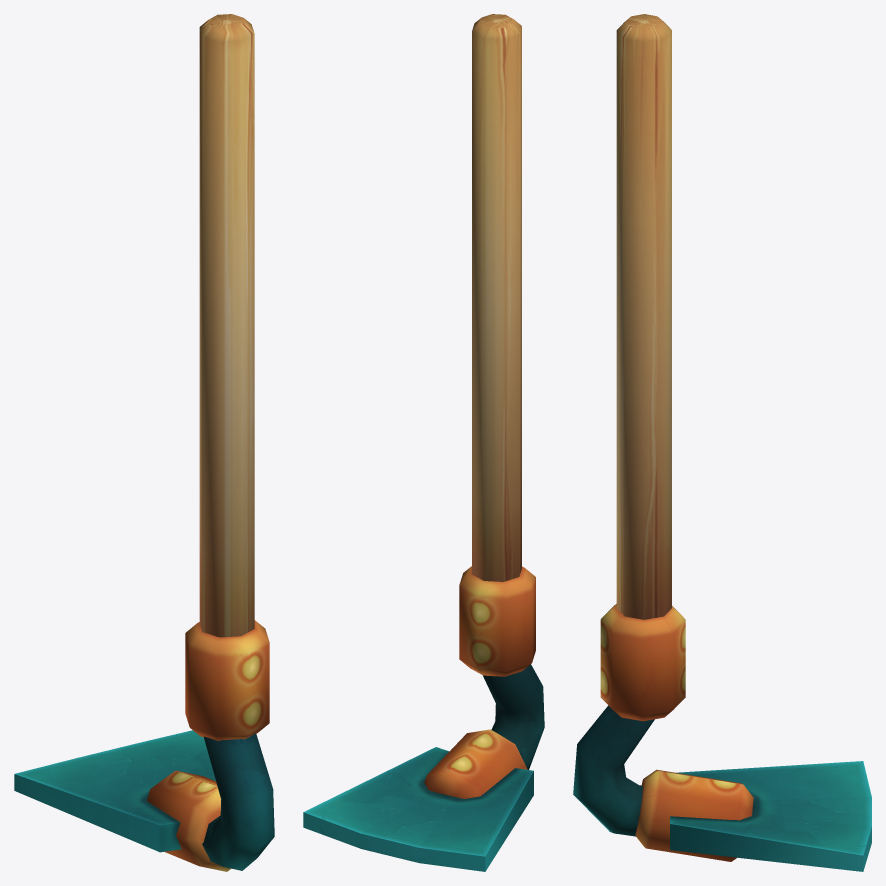
File: SE_Hoe_01.fbx
The picture shows the model from 3 angles, left to right: view 1: azimuth 30°, elevation 25°; view 2: azimuth 150°, elevation 25°; view 3: azimuth 270°, elevation 25°; orthographic projection. The views are drawn at different scales.
Parts seen in each view (by area): view 1: SE_Hoe_01; view 2: SE_Hoe_01; view 3: SE_Hoe_01.
Boxes of the visible parts, <box> form: SE_Hoe_01: <box>14,14,274,871</box>; SE_Hoe_01: <box>303,14,544,871</box>; SE_Hoe_01: <box>573,14,871,871</box>.
Size of the model in its own units: 1.07 by 4.44 by 1.43.
